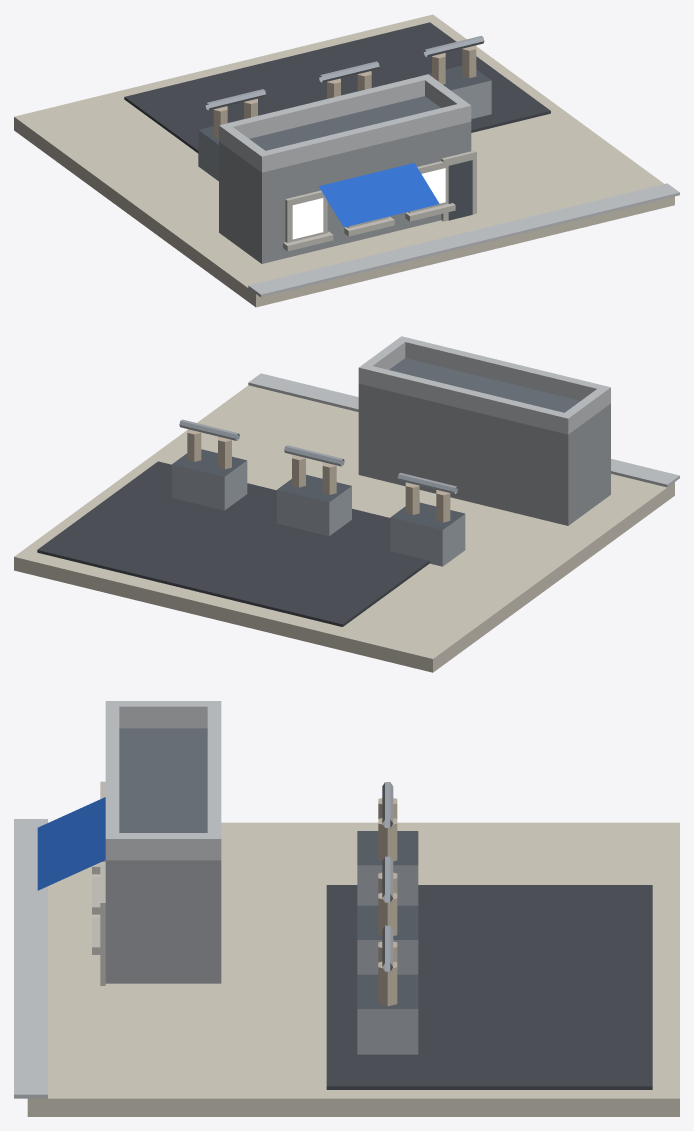
3 views of the same model, one above another, from view 1: azimuth 30°, elevation 25°; view 2: azimuth 150°, elevation 25°; view 3: azimuth 270°, elevation 25° (orthographic). The views are drawn at different scales.
Visible parts, largest first — view 1: b35_v2_lod1; view 2: b35_v2_lod1; view 3: b35_v2_lod1.
Part boxes in pixels (box(x1,y1,x2,y2)): b35_v2_lod1: box(14, 14, 679, 307); b35_v2_lod1: box(14, 336, 679, 672); b35_v2_lod1: box(14, 701, 679, 1116).
Size of the model in its own units: 0.96 by 0.265 by 0.98.
